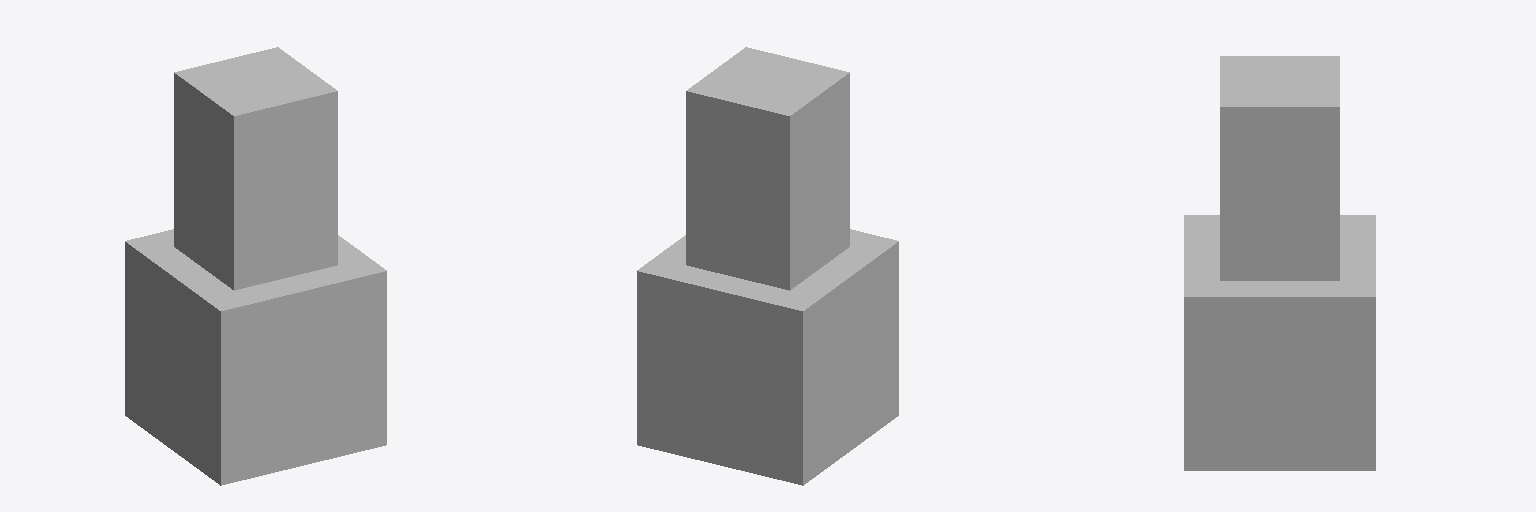
The model's file is fluid_pump_inv.obj.
The picture shows the model from 3 angles: view 1: azimuth 30°, elevation 25°; view 2: azimuth 150°, elevation 25°; view 3: azimuth 270°, elevation 25°; orthographic projection.
Parts seen in each view (by area): view 1: tank, pump; view 2: tank, pump; view 3: tank, pump.
Boxes of the visible parts, <box> form: tank: <box>125,229,386,485</box>; pump: <box>174,47,337,290</box>; tank: <box>637,229,898,485</box>; pump: <box>686,47,849,290</box>; tank: <box>1184,215,1375,470</box>; pump: <box>1220,56,1339,280</box>.
Size of the model in its own units: 1 by 2 by 1.